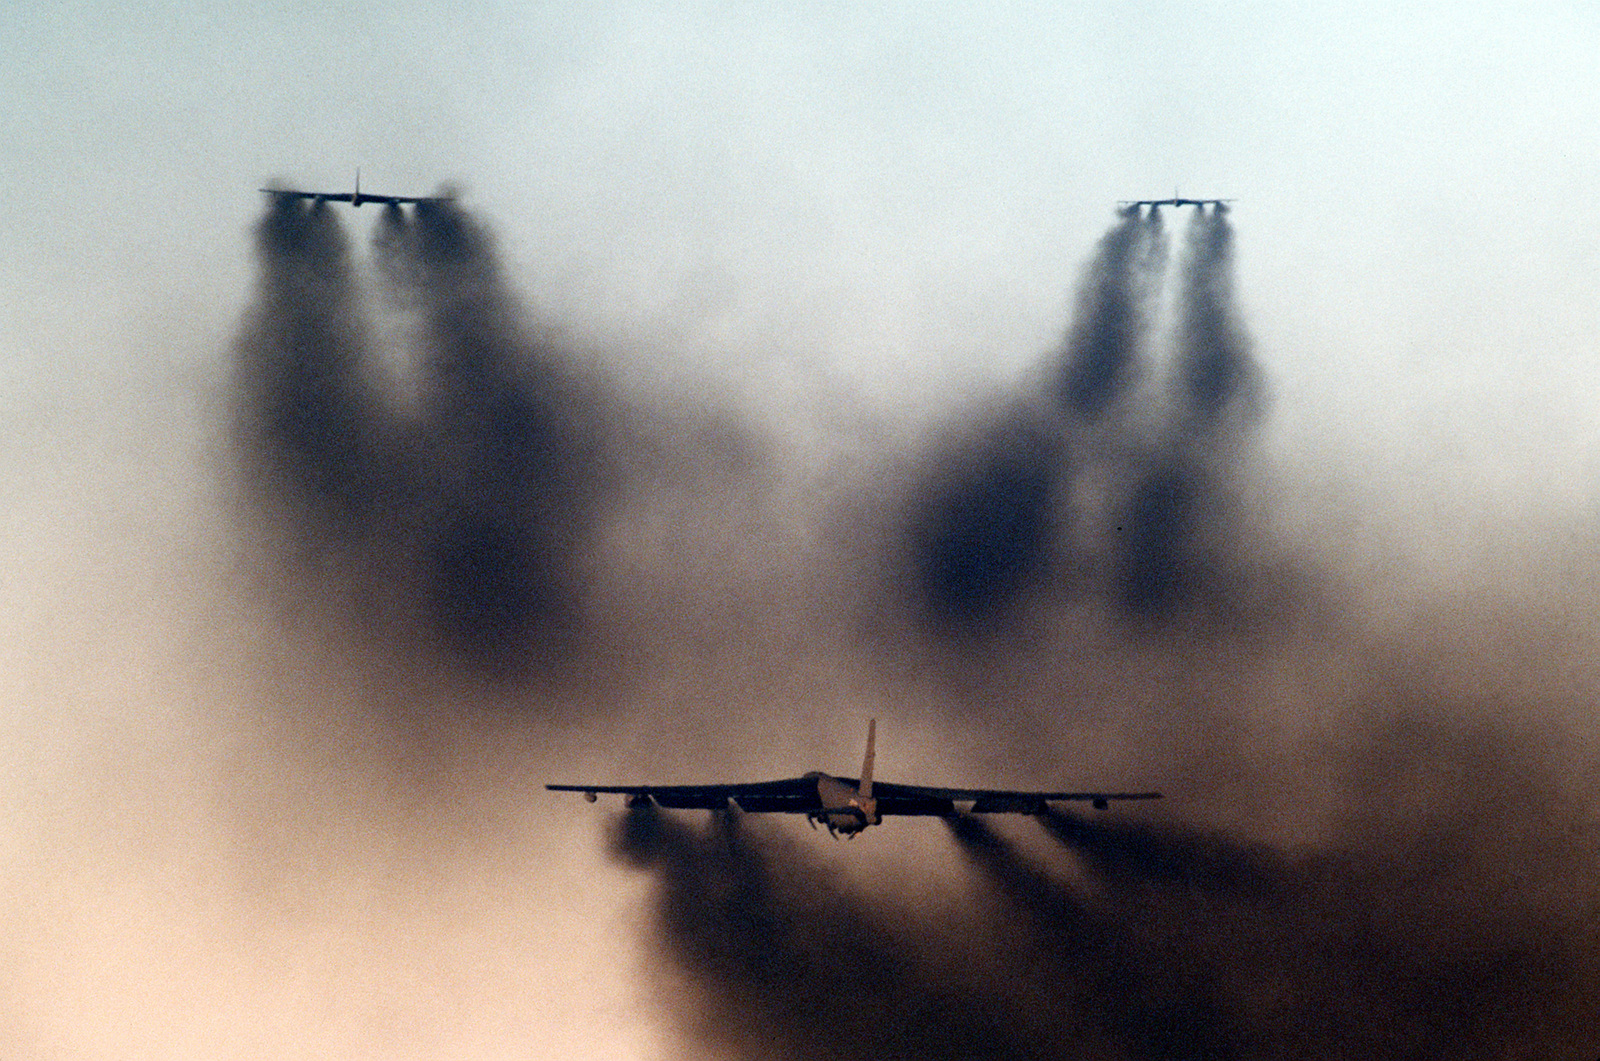B52: (544, 719, 1165, 841), (256, 165, 460, 208), (1116, 186, 1239, 208)
